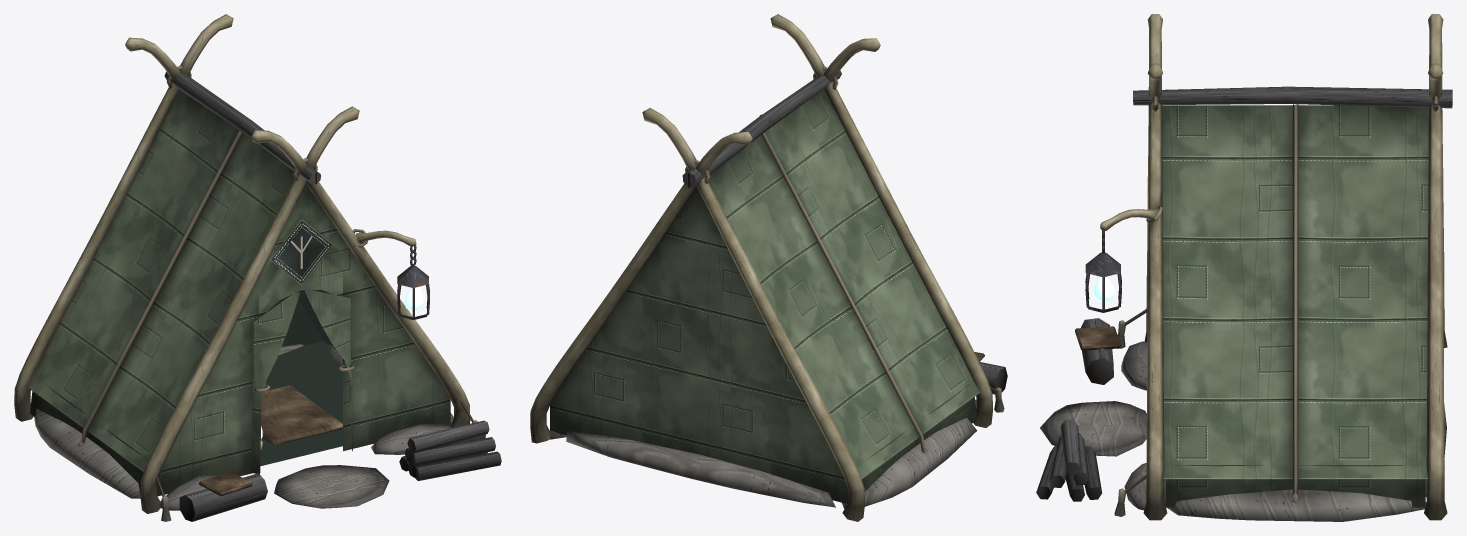
Rendered from helheim_tent.glb.
3 views of the same model, side by side, from view 1: azimuth 30°, elevation 25°; view 2: azimuth 150°, elevation 25°; view 3: azimuth 270°, elevation 25° (orthographic). The views are drawn at different scales.
Parts seen in each view (by area): view 1: helheim_tent; view 2: helheim_tent; view 3: helheim_tent.
Boxes of the visible parts, box(x1,y1,x2,y2) form: helheim_tent: box(14, 14, 501, 521); helheim_tent: box(530, 14, 1007, 521); helheim_tent: box(1036, 14, 1452, 521).
Bounding box in the file's own units: 3.26 × 3.2 × 3.08.
11 materials, 8 textured.
